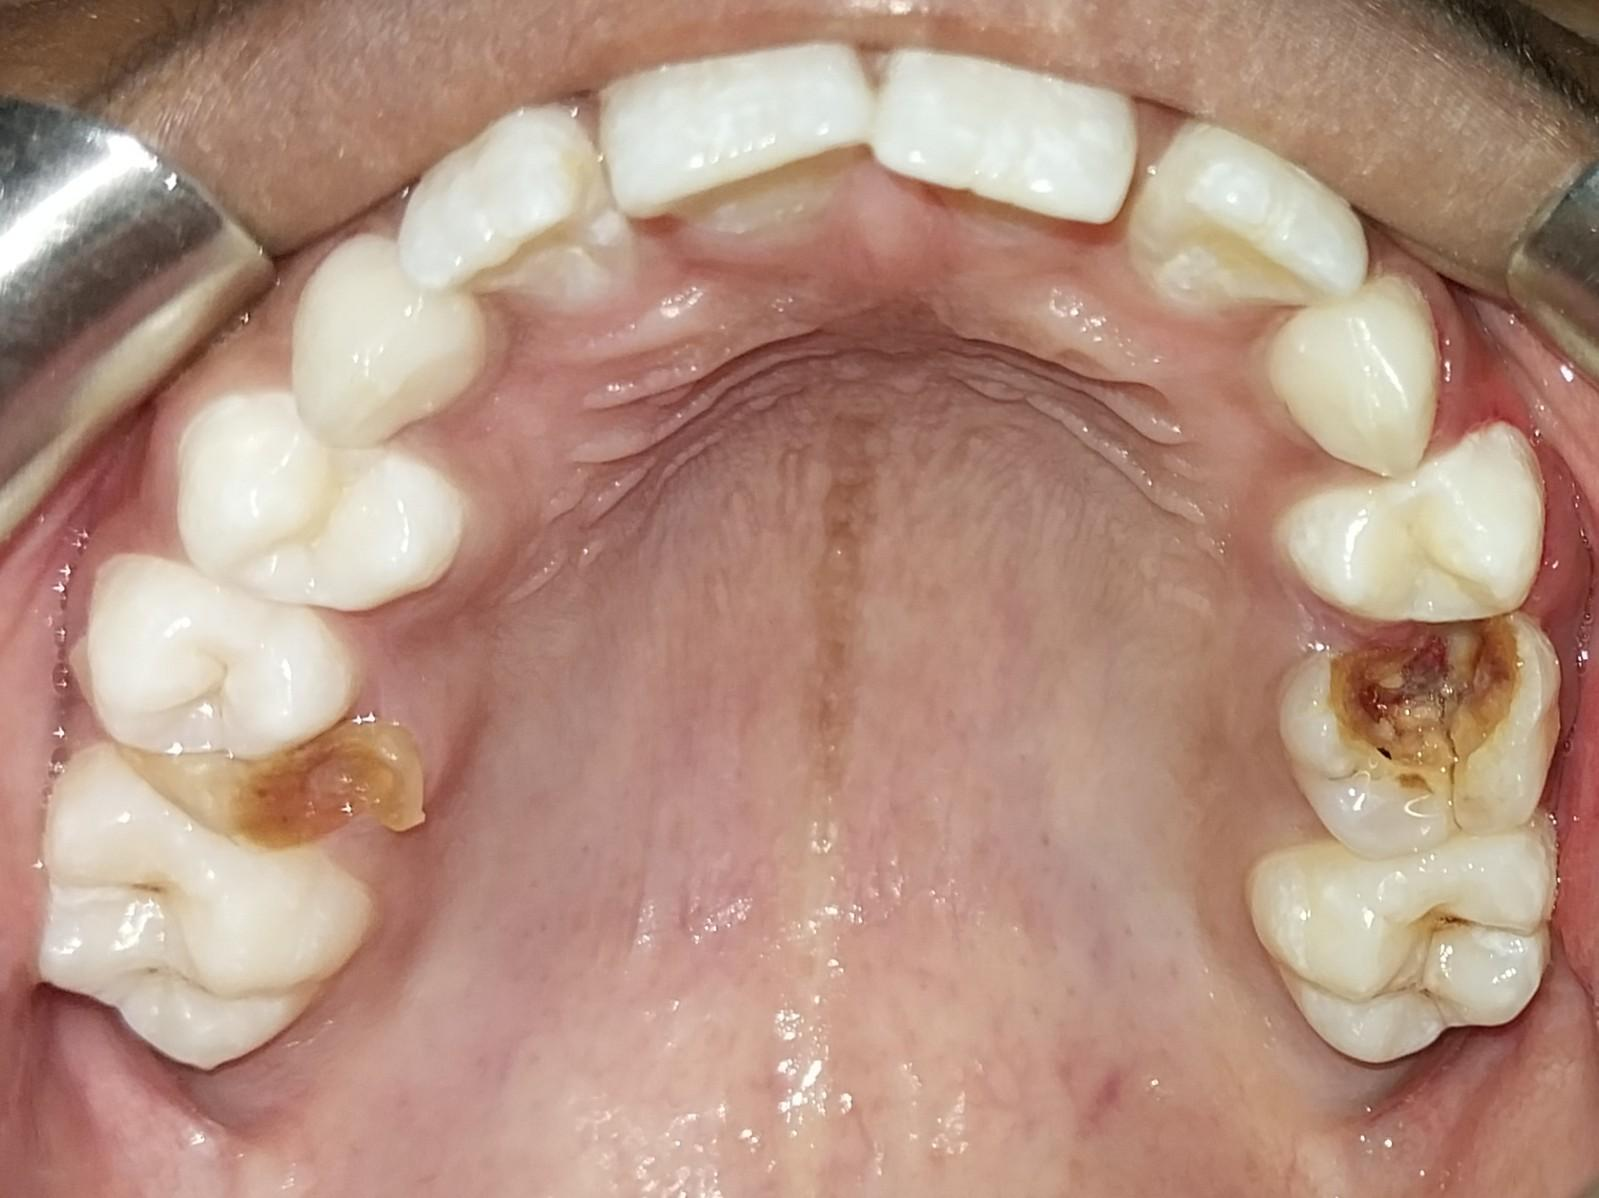d: (1285, 631, 1561, 842), (198, 764, 437, 833)
